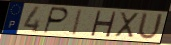4: (22, 5, 42, 34)
H: (89, 10, 118, 38)
I: (71, 8, 84, 36)
P: (42, 6, 70, 35)
U: (136, 11, 165, 41)
X: (114, 11, 141, 39)
